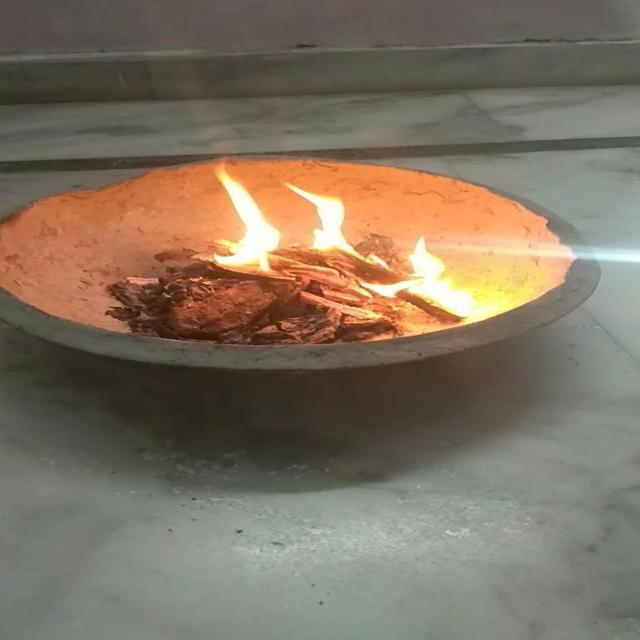smoke: (360, 234, 482, 317), (197, 170, 285, 271), (287, 176, 369, 260)
